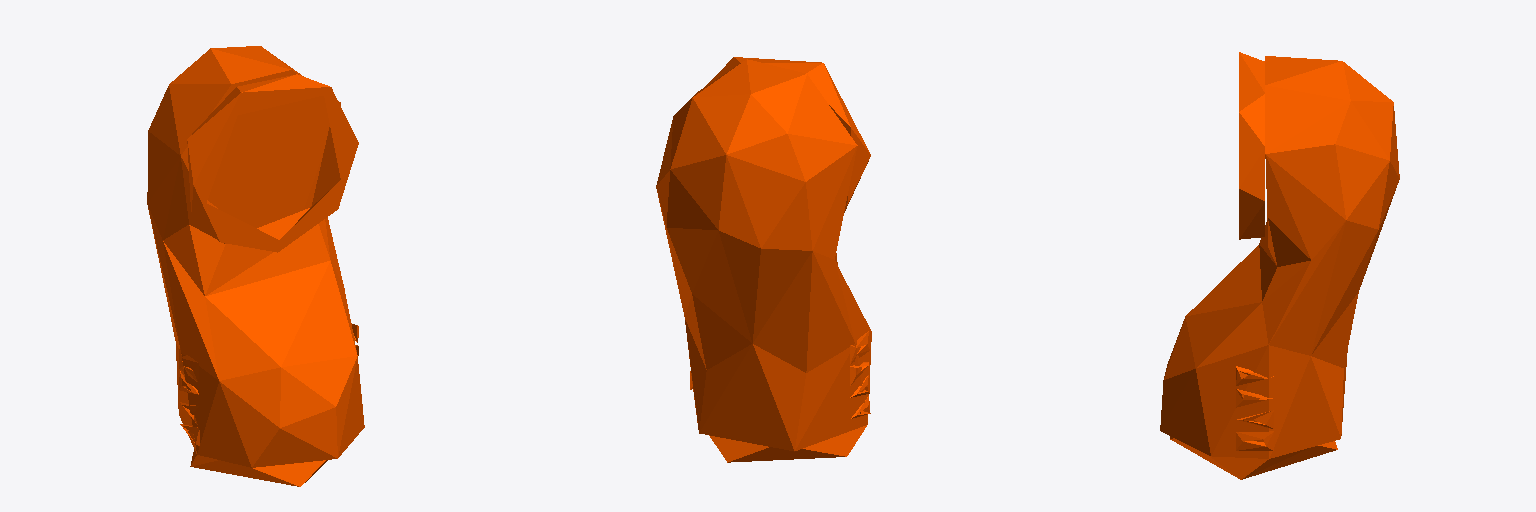
3 renders of one model, left to right at view 1: azimuth 30°, elevation 25°; view 2: azimuth 150°, elevation 25°; view 3: azimuth 270°, elevation 25°, orthographic.
Parts seen in each view (by area): view 1: link3_object.004; view 2: link3_object.004; view 3: link3_object.004.
Boxes of the visible parts, <box> form: link3_object.004: <box>147,46,364,486</box>; link3_object.004: <box>656,57,871,462</box>; link3_object.004: <box>1160,52,1399,479</box>.
Size of the model in its own units: 0.1235 by 0.2681 by 0.1547.